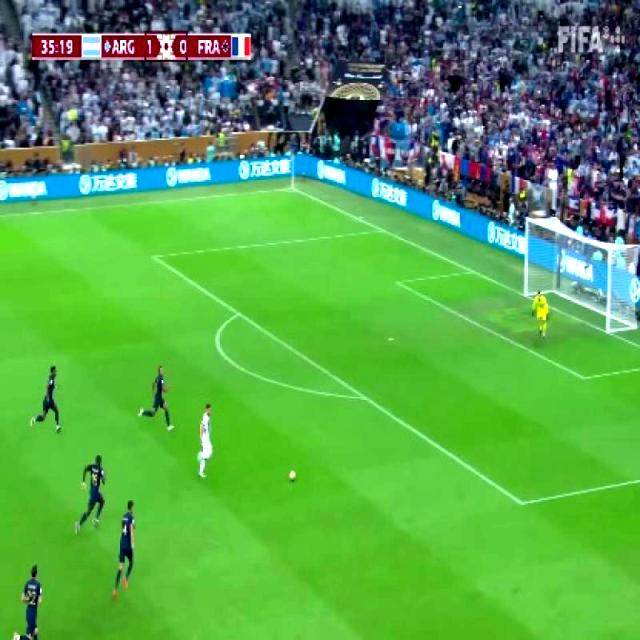bigarea_bottom_inner: (511, 488, 531, 516)
bigarea_top_inner: (144, 246, 162, 266)
bigarea_top_outter: (374, 222, 389, 236)
bottom_arc_area_intersection: (356, 386, 370, 406)
corner: (283, 181, 300, 194)
smallarea_bottom_inner: (574, 364, 594, 390)
smallarea_top_inner: (390, 272, 404, 292)
smallarea_top_outter: (464, 262, 478, 278)
top_arc_area_intersection: (228, 302, 246, 323)
